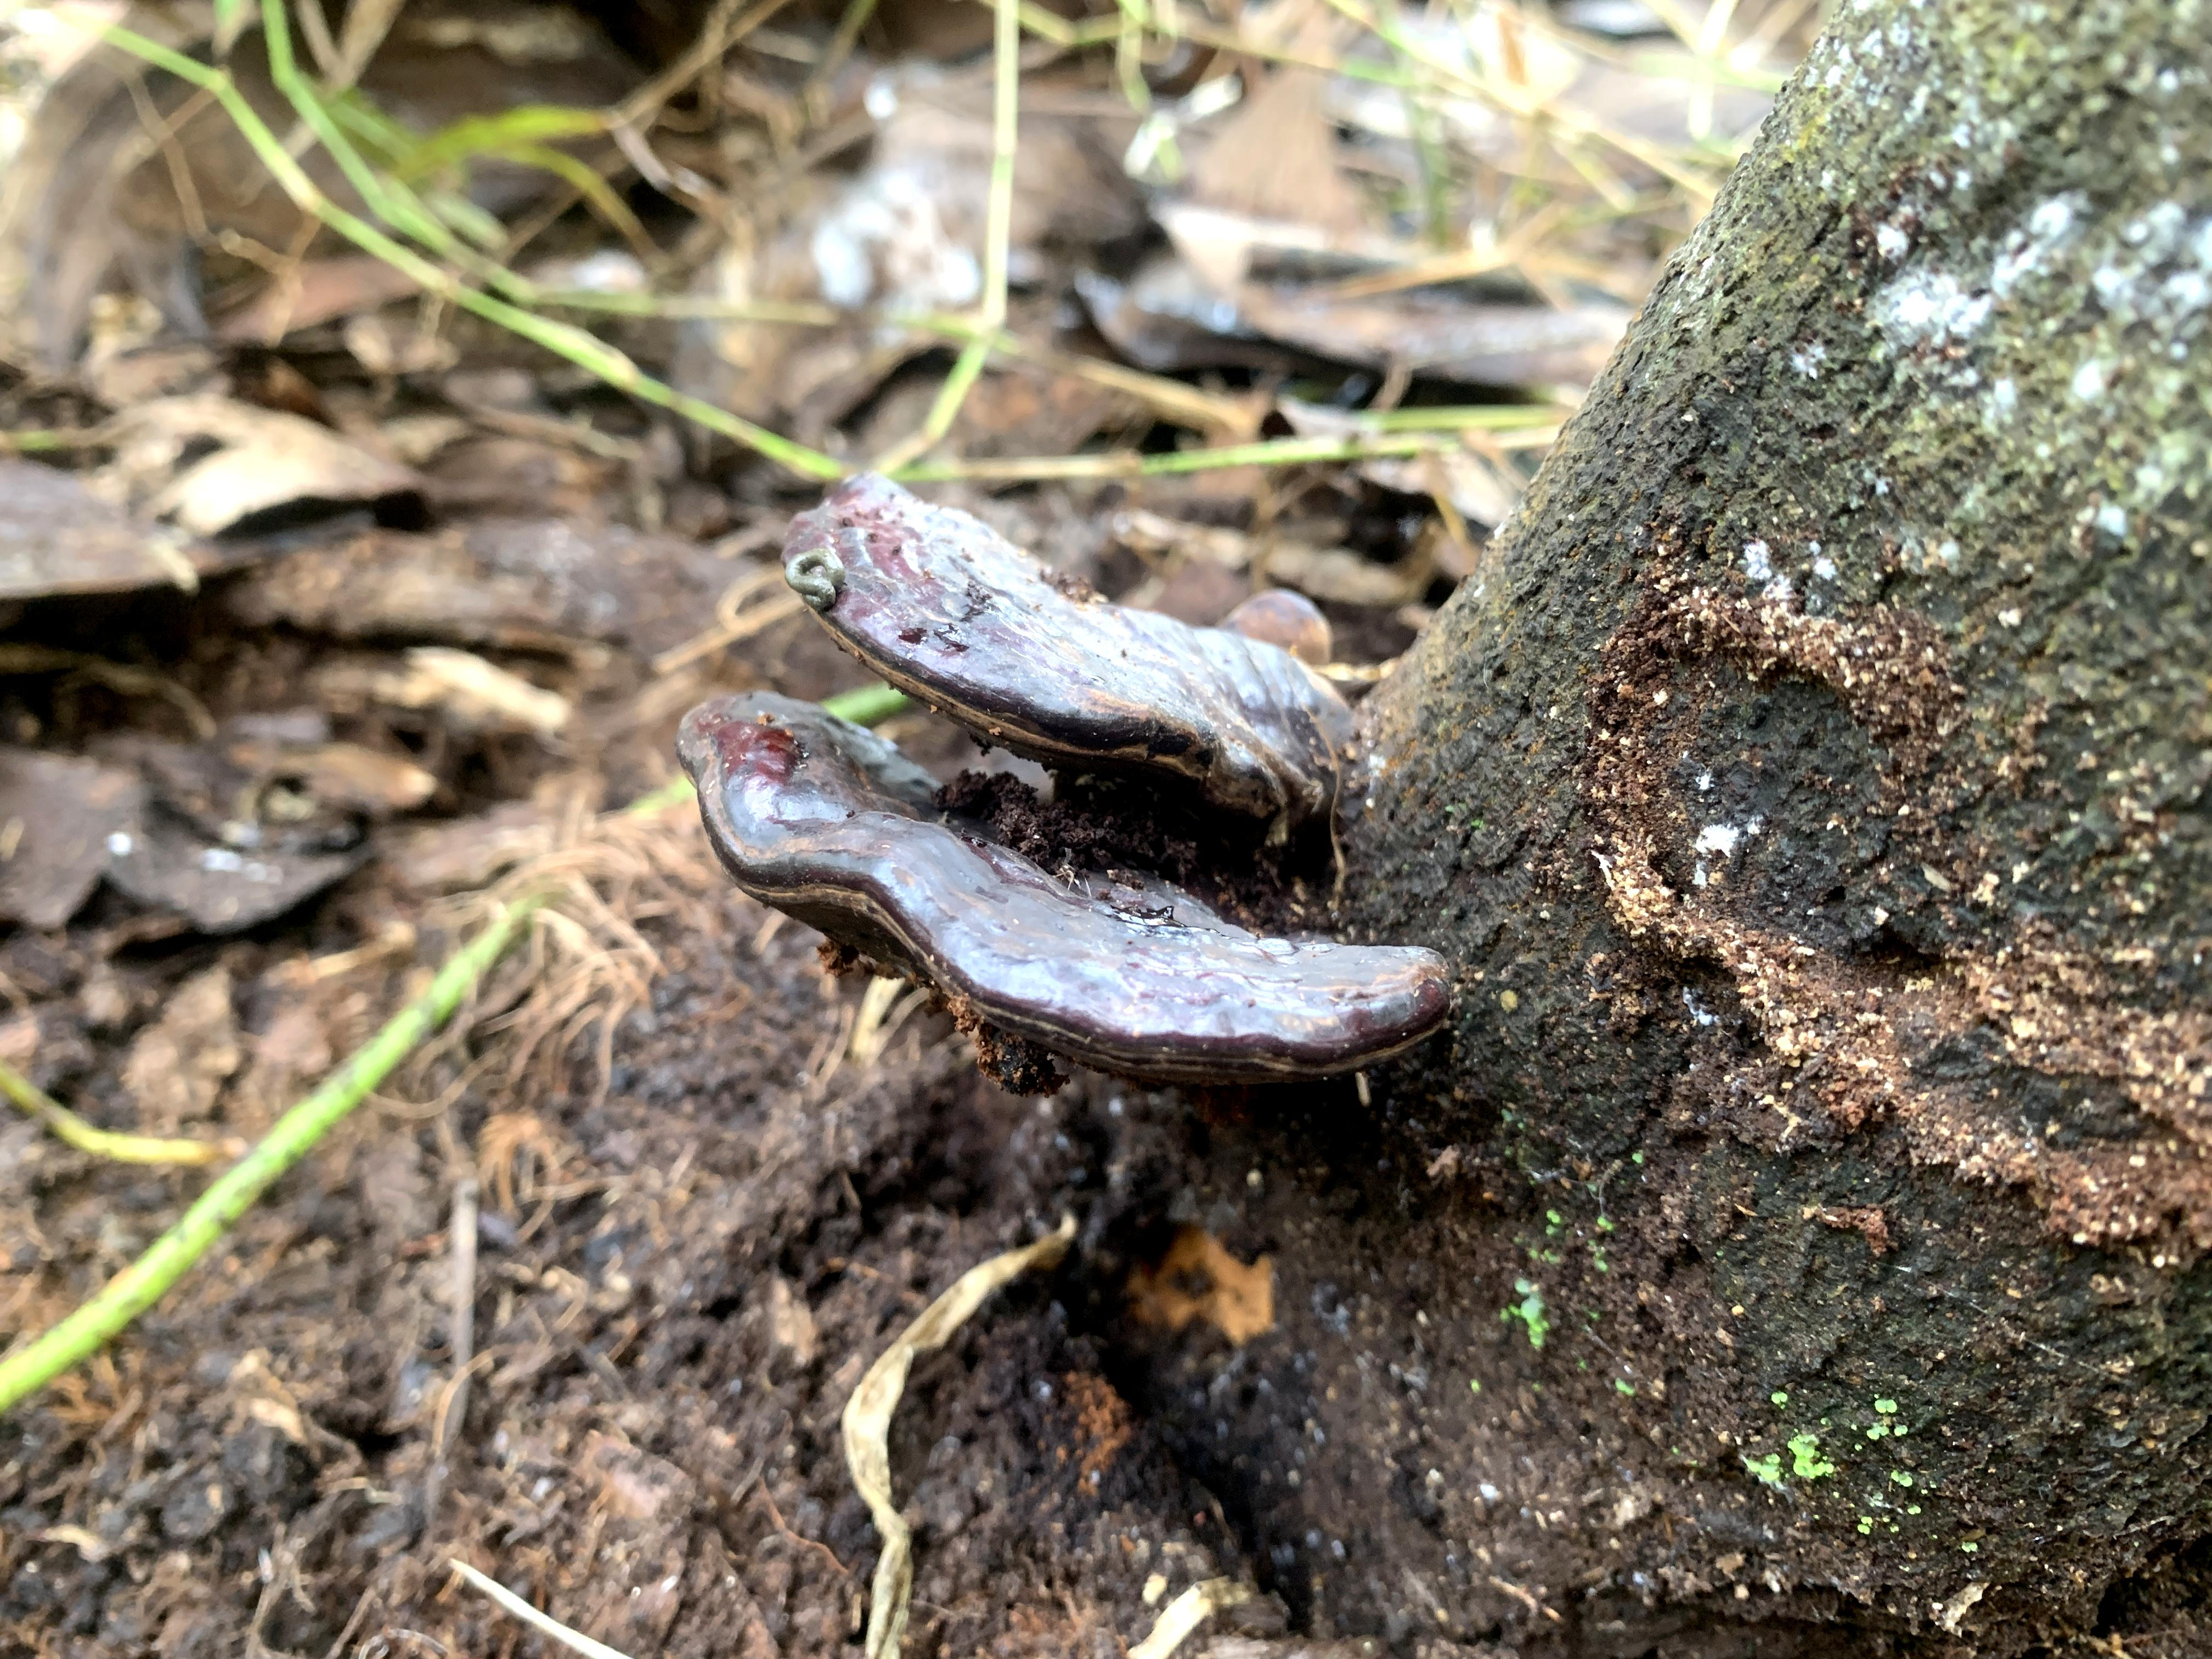Ganoderma - Fruit Body: (648, 662, 1444, 1101), (772, 467, 1378, 835)
